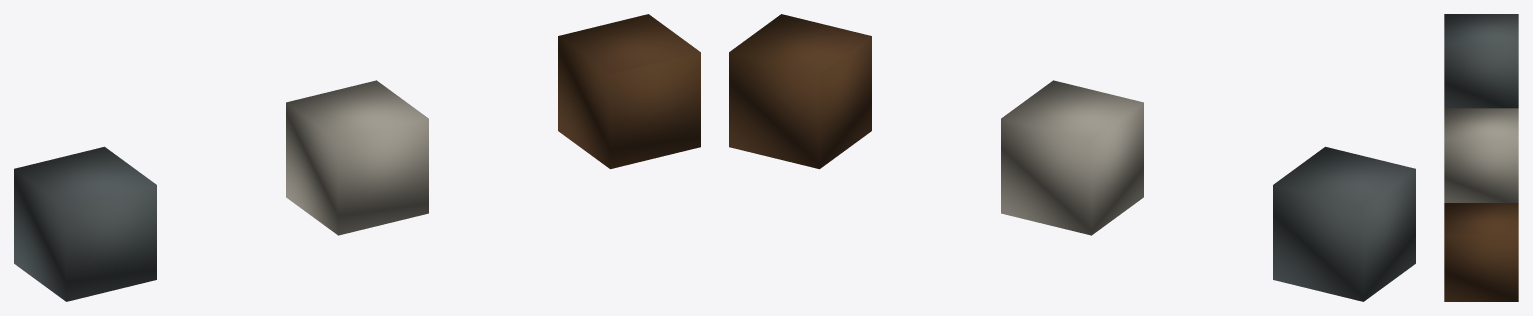
The model's file is materials.glb.
3 renders of one model, left to right at view 1: azimuth 30°, elevation 25°; view 2: azimuth 150°, elevation 25°; view 3: azimuth 270°, elevation 25°, orthographic. The views are drawn at different scales.
Parts seen in each view (by area): view 1: MaterialLibrary__Archive_oak, MaterialLibrary__Basalt, MaterialLibrary__Limestone; view 2: MaterialLibrary__Archive_oak, MaterialLibrary__Basalt, MaterialLibrary__Limestone; view 3: MaterialLibrary__Archive_oak, MaterialLibrary__Basalt, MaterialLibrary__Limestone.
Boxes of the visible parts, x1,y1,x2,y2 form: MaterialLibrary__Archive_oak: (558, 14, 700, 169); MaterialLibrary__Basalt: (14, 146, 156, 301); MaterialLibrary__Limestone: (286, 80, 428, 235); MaterialLibrary__Archive_oak: (729, 14, 871, 169); MaterialLibrary__Basalt: (1273, 146, 1415, 301); MaterialLibrary__Limestone: (1001, 80, 1143, 235); MaterialLibrary__Archive_oak: (1444, 203, 1518, 301); MaterialLibrary__Basalt: (1444, 14, 1518, 108); MaterialLibrary__Limestone: (1444, 108, 1518, 202).
Bounding box in the file's own units: 0.07 × 0.01 × 0.01.
3 materials, 3 textured.
